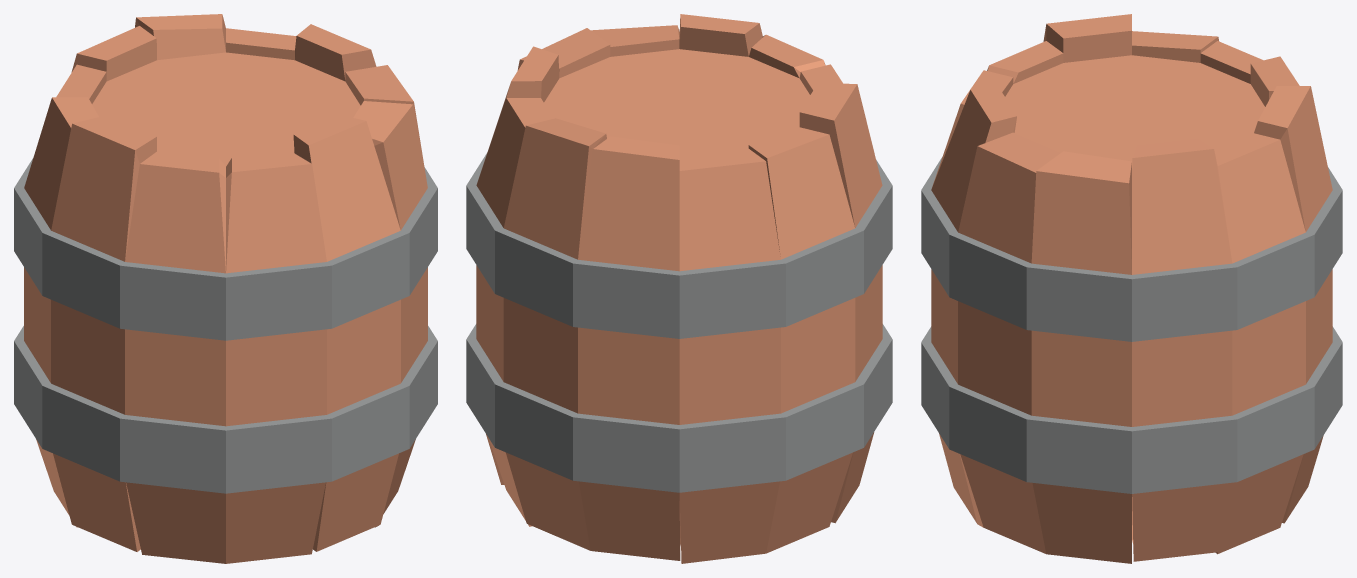
File: BARREL.fbx
3 views of the same model, side by side, from view 1: azimuth 30°, elevation 25°; view 2: azimuth 150°, elevation 25°; view 3: azimuth 270°, elevation 25° (orthographic).
Parts seen in each view (by area): view 1: Cylinder, Cylinder.001; view 2: Cylinder, Cylinder.001; view 3: Cylinder, Cylinder.001.
Part boxes in pixels (x1,y1,x2,y2): Cylinder: [24, 14, 427, 563]; Cylinder.001: [14, 158, 437, 493]; Cylinder: [476, 14, 882, 563]; Cylinder.001: [466, 152, 892, 492]; Cylinder: [931, 14, 1332, 563]; Cylinder.001: [921, 157, 1342, 493].
Bounding box in the file's own units: 246 × 262 × 246.
